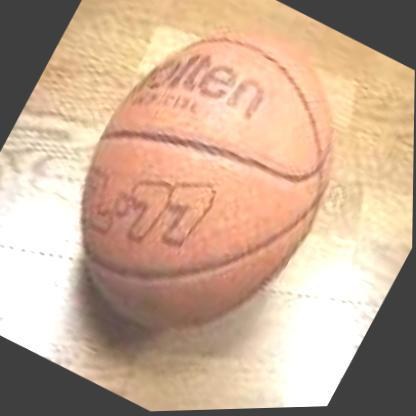basketball: (29, 0, 390, 379)
